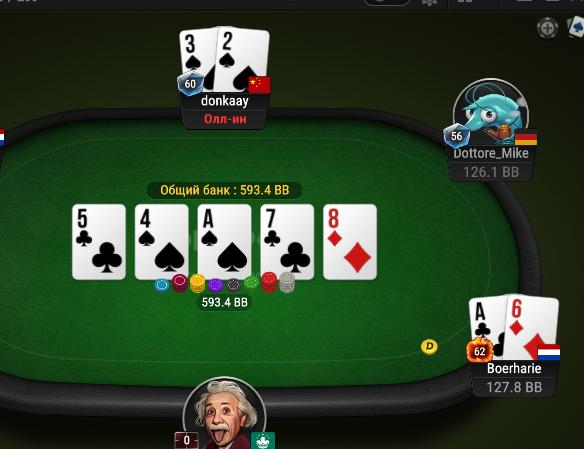2s: (218, 26, 270, 93)
3s: (179, 29, 218, 96)
4s: (136, 204, 188, 280)
5c: (73, 205, 126, 278)
6d: (507, 294, 558, 359)
7c: (261, 204, 312, 278)
8d: (324, 205, 376, 280)
Ac: (468, 297, 506, 360)
As: (199, 205, 251, 279)
